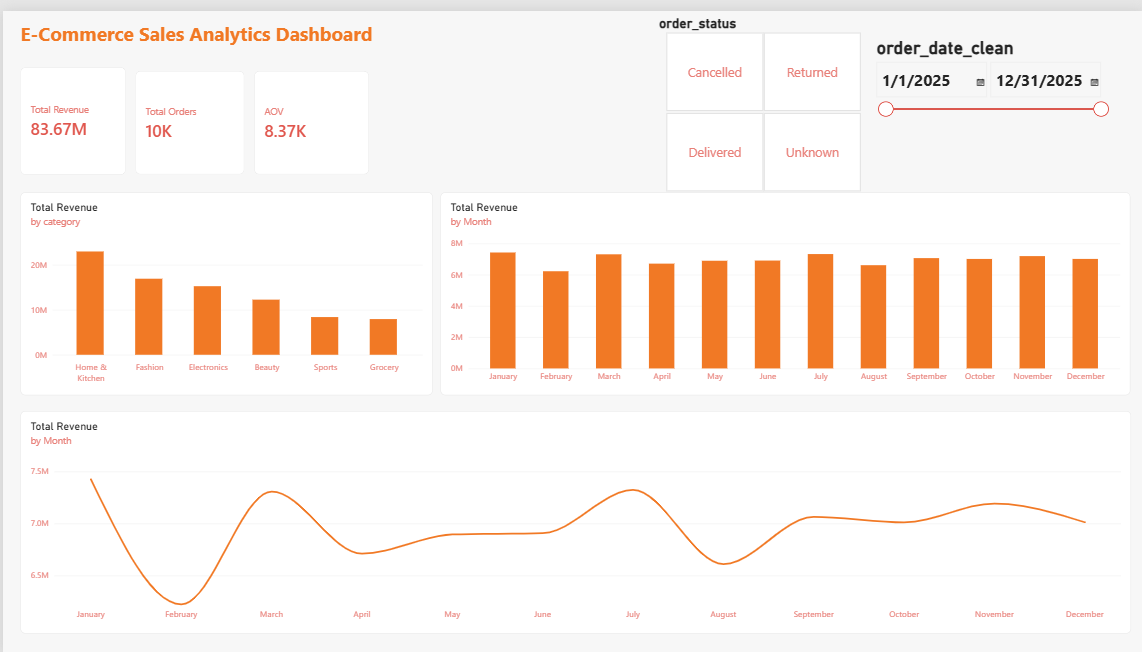

This screenshot's page, from the dashboard's own definition file:
{"tool":"powerbi","page":{"name":"Page 1","canvas":[1920,1080],"ordinal":0},"visuals":[{"type":"cardVisual","fields":{"Data":["ecommerce_db orders.Total Revenue"]},"box":[28.8,94.7,177,181.1],"z":0},{"type":"cardVisual","fields":{"Data":["ecommerce_db orders.Total Orders"]},"box":[222.3,100.9,183.2,175],"z":1000},{"type":"cardVisual","fields":{"Data":["ecommerce_db orders.AOV"]},"box":[422,100.9,193.5,175],"z":2000},{"type":"clusteredColumnChart","fields":{"Category":["ecommerce_db products.category"],"Y":["ecommerce_db orders.Total Revenue"]},"box":[28.8,304.6,693.7,341.7],"z":3000},{"type":"clusteredColumnChart","fields":{"Category":["ecommerce_db orders.order_date_clean.Variation.Date Hierarchy.Month","ecommerce_db orders.order_date_clean.Variation.Date Hierarchy.Day"],"Y":["ecommerce_db orders.Total Revenue"]},"box":[736.9,304.6,1160.9,341.7],"z":4000},{"type":"slicer","fields":{"Values":["ecommerce_db orders.order_status"]},"box":[1095.9,6.3,366,298.7],"z":5000},{"type":"slicer","fields":{"Values":["ecommerce_db orders.order_date_clean"]},"box":[1461.9,44.2,401.8,231.4],"z":6000},{"type":"lineChart","fields":{"Category":["ecommerce_db orders.order_date_clean.Variation.Date Hierarchy.Month","ecommerce_db orders.order_date_clean.Variation.Date Hierarchy.Day"],"Y":["ecommerce_db orders.Total Revenue"]},"box":[28.8,673.1,1869,374.6],"z":7000},{"type":"textbox","box":[1770,101,150,175],"z":8000},{"type":"textbox","box":[1770,101,150,175],"z":9000},{"type":"textbox","box":[1770,101,150,175],"z":10000},{"type":"textbox","box":[1770,101,150,175],"z":11000},{"type":"textbox","box":[1770,101,150,175],"z":12000},{"type":"textbox","box":[29.4,16.8,694.1,77.8],"z":13000}]}

Visuals, with their boxes in screenshot pixels (x1, y1, x2, y2), scaled from the page's 1920x1080 canvas onto the 1142x652 screenshot:
cardVisual - ecommerce_db orders.Total Revenue: 17, 57, 122, 167
cardVisual - ecommerce_db orders.Total Orders: 132, 61, 241, 167
cardVisual - ecommerce_db orders.AOV: 251, 61, 366, 167
clusteredColumnChart - ecommerce_db products.category x ecommerce_db orders.Total Revenue: 17, 184, 430, 390
clusteredColumnChart - ecommerce_db orders.order_date_clean.Variation.Date Hierarchy.Month x ecommerce_db orders.order_date_clean.Variation.Date Hierarchy.Day: 438, 184, 1129, 390
slicer - ecommerce_db orders.order_status: 652, 4, 870, 184
slicer - ecommerce_db orders.order_date_clean: 870, 27, 1109, 166
lineChart - ecommerce_db orders.order_date_clean.Variation.Date Hierarchy.Month x ecommerce_db orders.order_date_clean.Variation.Date Hierarchy.Day: 17, 406, 1129, 633
textbox: 1053, 61, 1141, 167
textbox: 1053, 61, 1141, 167
textbox: 1053, 61, 1141, 167
textbox: 1053, 61, 1141, 167
textbox: 1053, 61, 1141, 167
textbox: 17, 10, 430, 57
